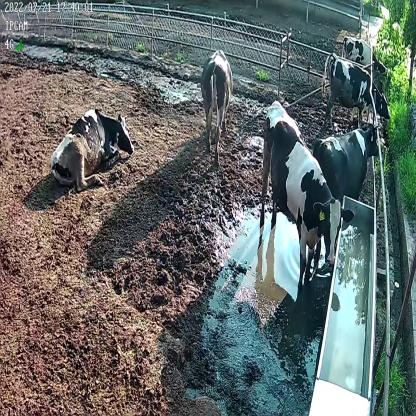cow: (259, 97, 355, 291), (49, 108, 133, 190), (313, 124, 384, 206), (321, 53, 390, 134), (200, 45, 234, 167), (342, 33, 390, 82)
